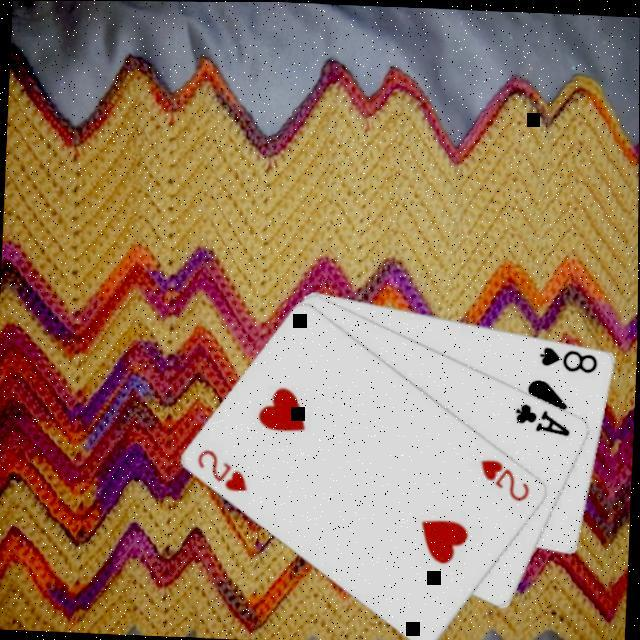2H: (194, 446, 254, 496), (477, 455, 535, 505)
8S: (537, 342, 602, 376)
AC: (513, 399, 575, 439)
